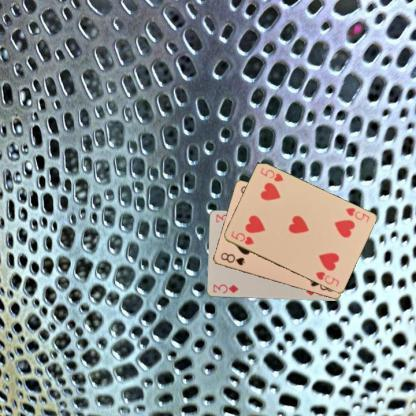3d: (210, 282, 240, 294)
5h: (228, 228, 256, 246), (342, 206, 370, 224)
8s: (218, 250, 247, 267)
